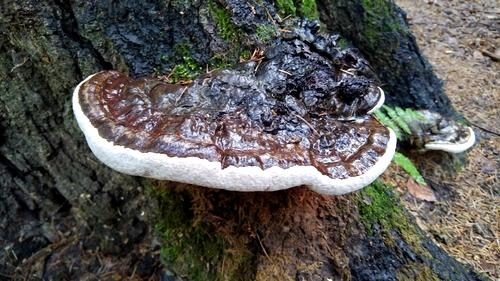Ganoderma - Fruit Body: (76, 34, 395, 198), (425, 121, 477, 156)
